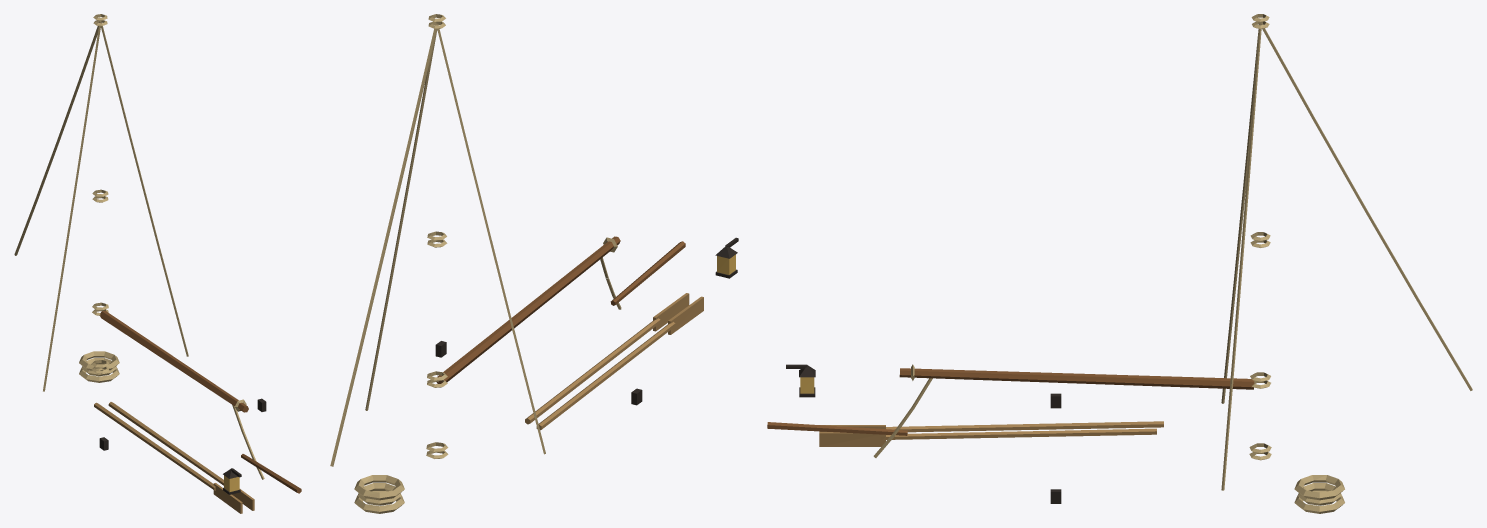
The model's file is boat-gear.glb.
The picture shows the model from 3 angles, left to right: view 1: azimuth 30°, elevation 25°; view 2: azimuth 150°, elevation 25°; view 3: azimuth 270°, elevation 25°; orthographic projection. The views are drawn at different scales.
Visible parts, largest first — view 1: boat-gear; view 2: boat-gear; view 3: boat-gear.
Boxes of the visible parts, box(x1,y1,x2,y2) form: boat-gear: box(14, 14, 301, 513); boat-gear: box(330, 14, 738, 513); boat-gear: box(767, 14, 1472, 513).
Bounding box in the file's own units: 2.16 × 4.87 × 6.55.
